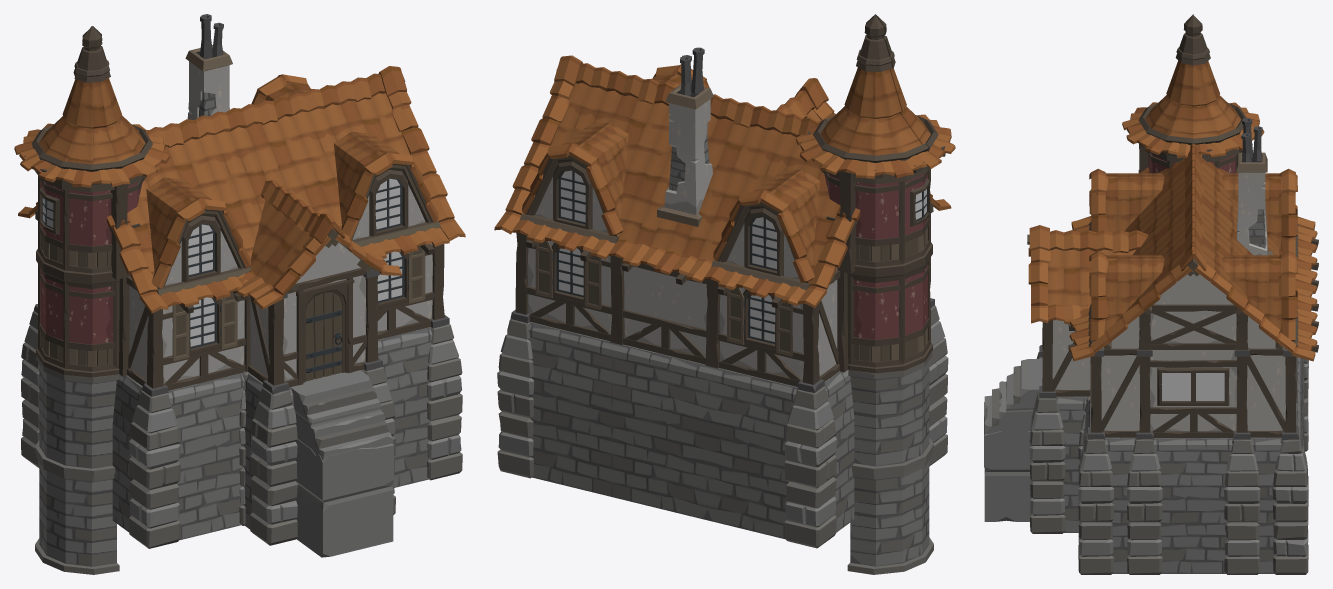
Rendered from SM_Bld_Preset_House_09_C_Optimized.fbx.
3 renders of one model, left to right at view 1: azimuth 30°, elevation 25°; view 2: azimuth 150°, elevation 25°; view 3: azimuth 270°, elevation 25°, orthographic. The views are drawn at different scales.
Parts seen in each view (by area): view 1: SM_Bld_Preset_House_09_C_Optimized, SM_Bld_Preset_House_09_C_Glass_Optimized; view 2: SM_Bld_Preset_House_09_C_Optimized, SM_Bld_Preset_House_09_C_Glass_Optimized; view 3: SM_Bld_Preset_House_09_C_Optimized, SM_Bld_Preset_House_09_C_Glass_Optimized.
Part boxes in pixels (box(x1,y1,x2,y2)): SM_Bld_Preset_House_09_C_Optimized: box(14, 14, 465, 574); SM_Bld_Preset_House_09_C_Glass_Optimized: box(42, 178, 402, 346); SM_Bld_Preset_House_09_C_Optimized: box(494, 14, 955, 574); SM_Bld_Preset_House_09_C_Glass_Optimized: box(559, 170, 926, 341); SM_Bld_Preset_House_09_C_Optimized: box(984, 14, 1318, 574); SM_Bld_Preset_House_09_C_Glass_Optimized: box(1161, 373, 1224, 400).
Bounding box in the file's own units: 1005 × 1338 × 861.
